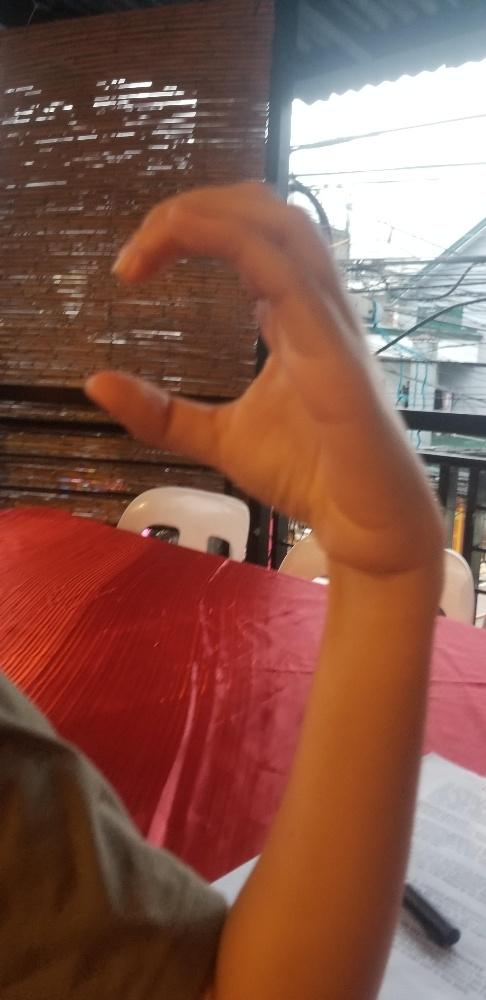c: (84, 177, 446, 573)
